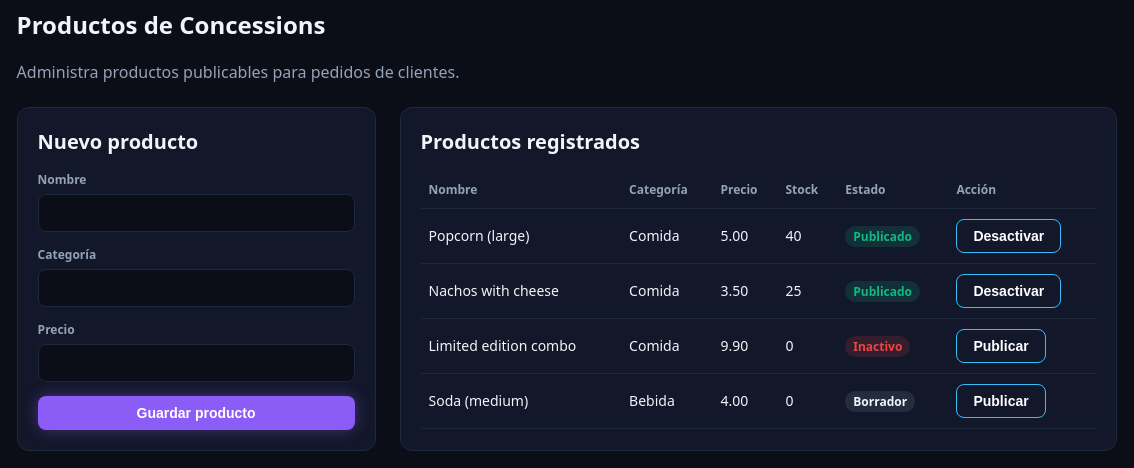
Test case: ProductsPageComponent › publishes a draft and deactivates a published product from the table
The image size is (1134, 468).
Click the button "Publicar" in the row of "Soda (medium)" at (1001, 401), box [956,384,1046,418]
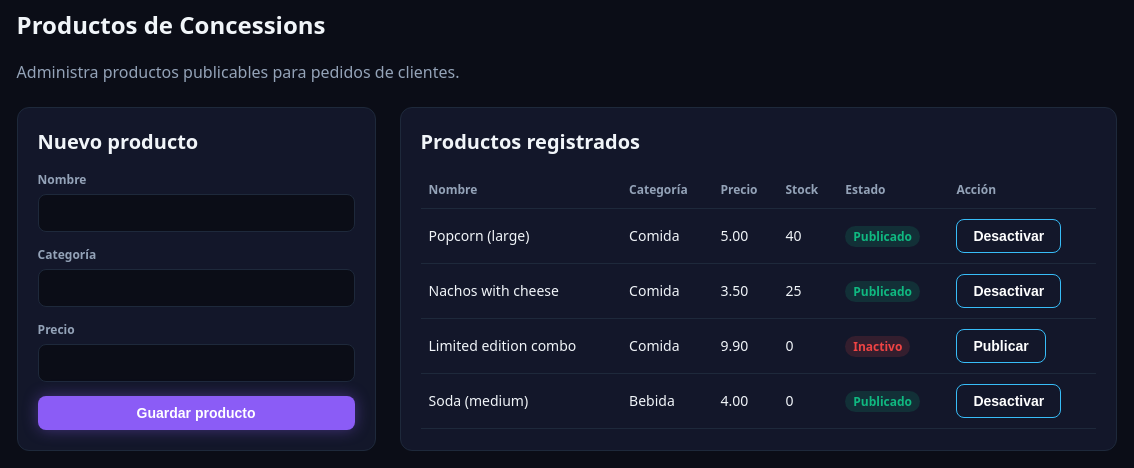
Check: the row with test id "product-row" shows "Publicado", box [853,393,912,410]
Click the button "Desactivar" in the row of "Popcorn (large)" at (1009, 236), box [956,219,1061,253]
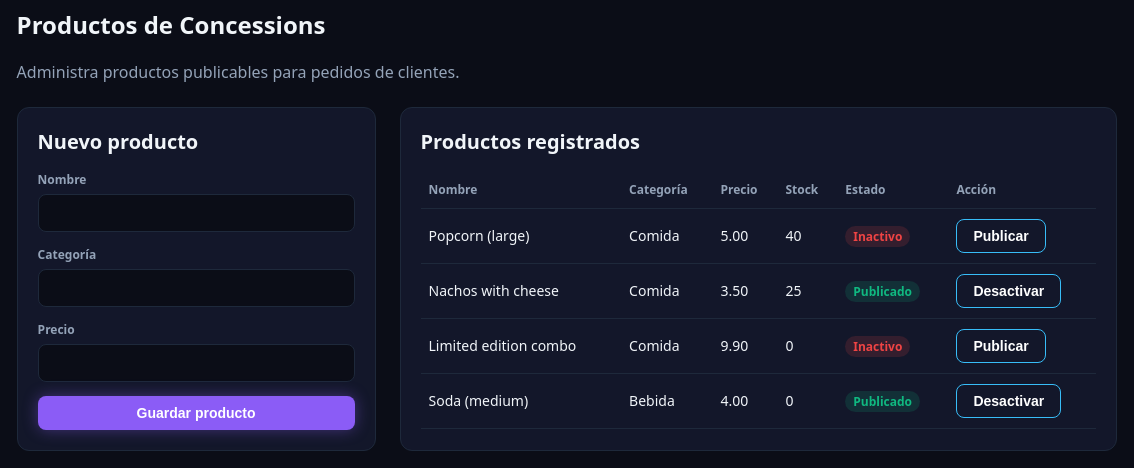
Check: the row with test id "product-row" shows "Inactivo", box [853,228,902,245]
